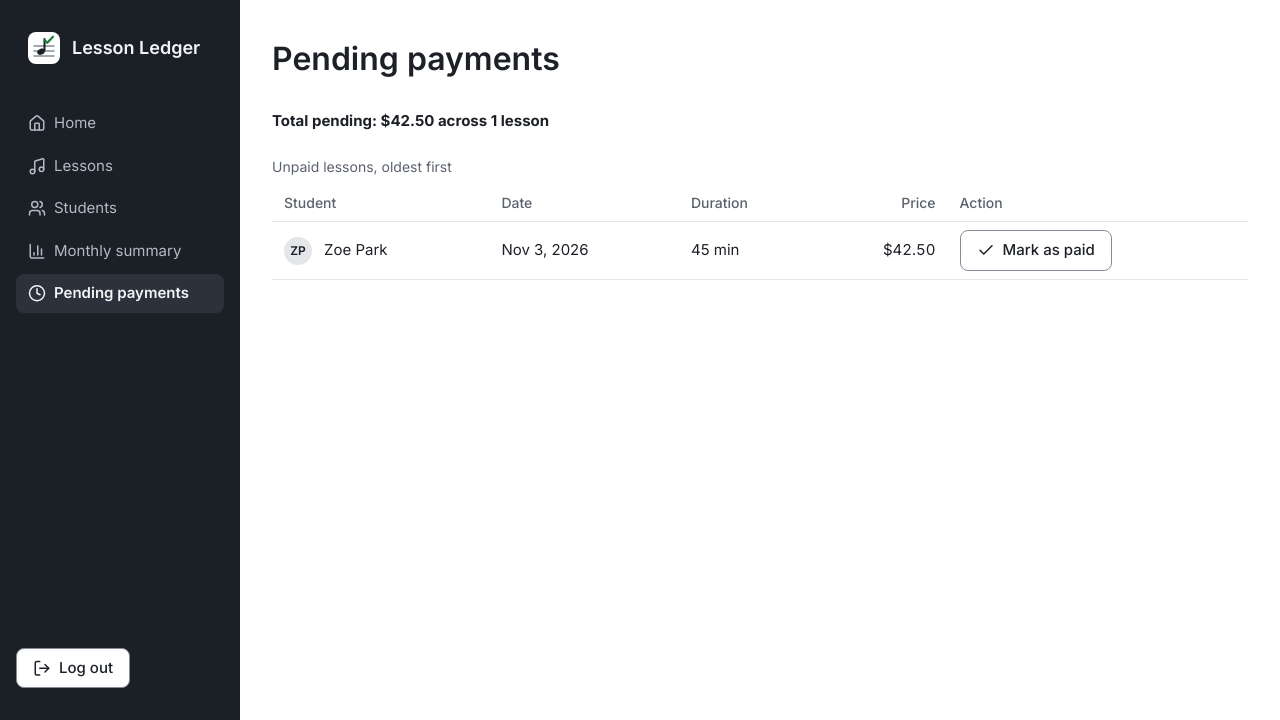
Test: AC-3 mark as paid on /pending › focuses the h1 when the list becomes empty
expect the table is shown: met, box x1=272 y1=157 x2=1248 y2=280
Click the button with aria-label "Mark as paid: Zoe Park, Nov 3, 2026": point(1036, 251) x1=960 y1=230 x2=1112 y2=271
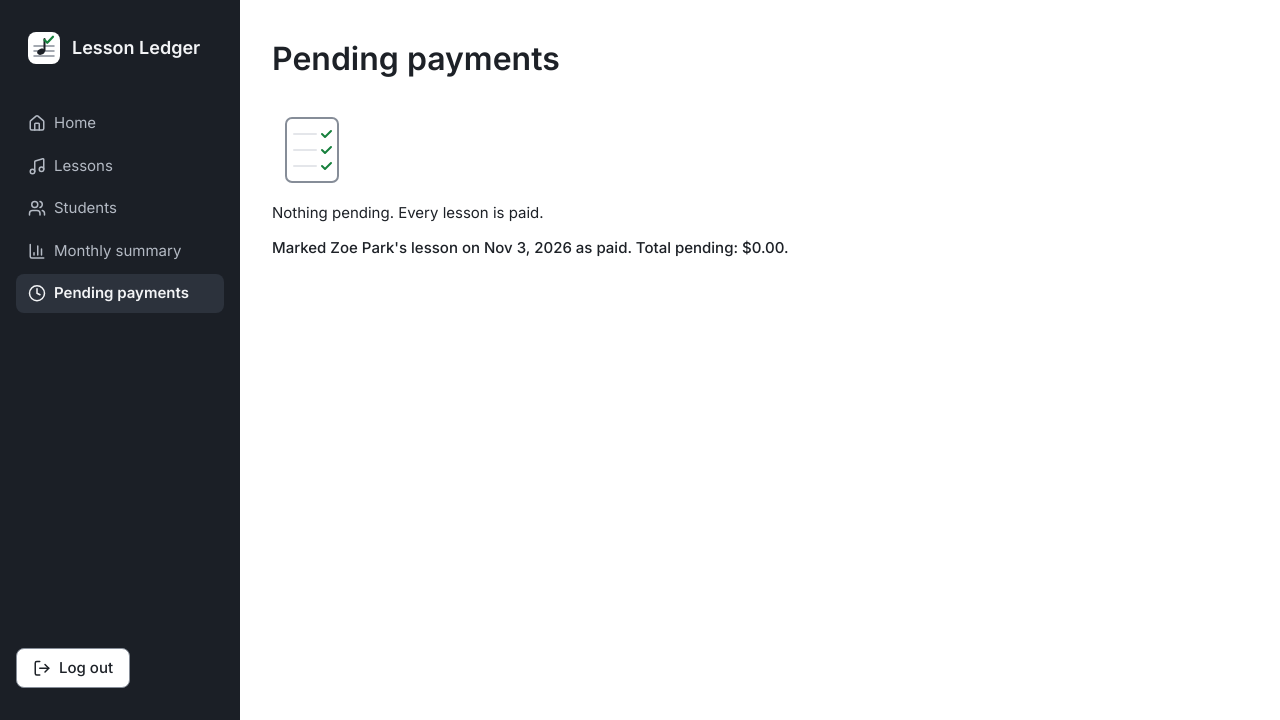
expect the text "Nothing pending. Every lesson is paid." is shown: met, box x1=272 y1=203 x2=544 y2=222
expect the message reads "Marked Zoe Park's lesson on Nov 3, 2026 as paid. Total pending: $0.00.": met, box x1=272 y1=238 x2=789 y2=257
